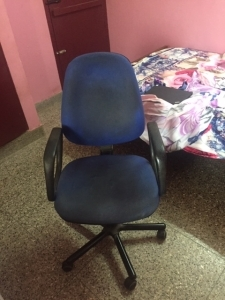chair: (43, 52, 167, 290)
